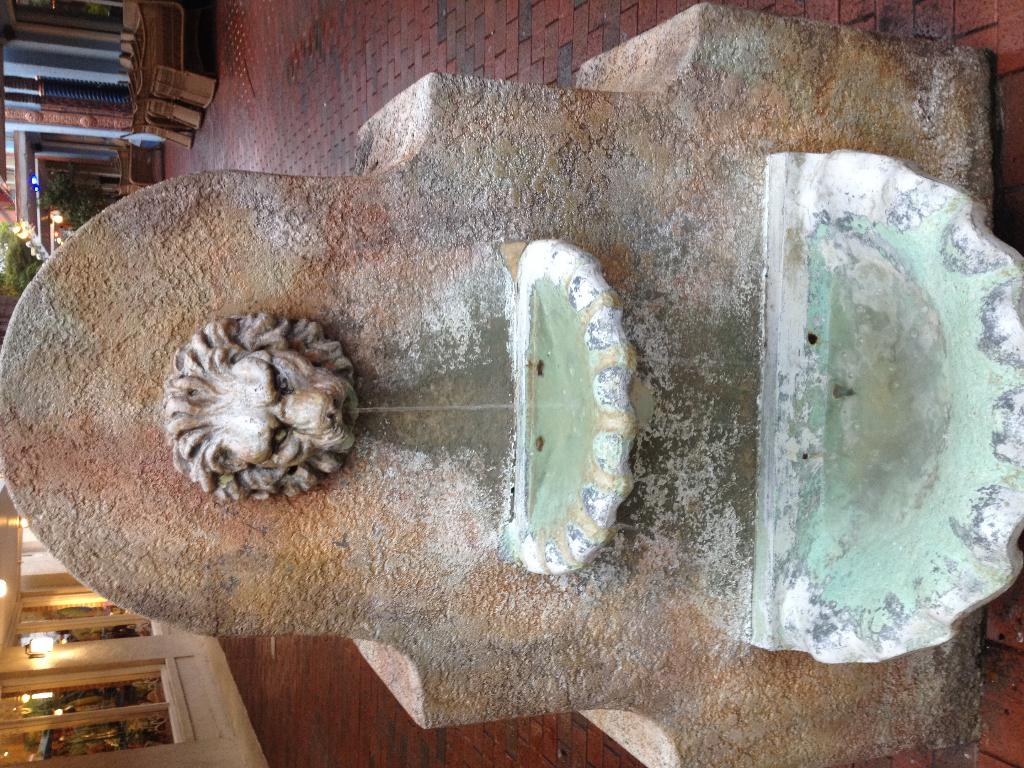Animal: (165, 301, 361, 508)
